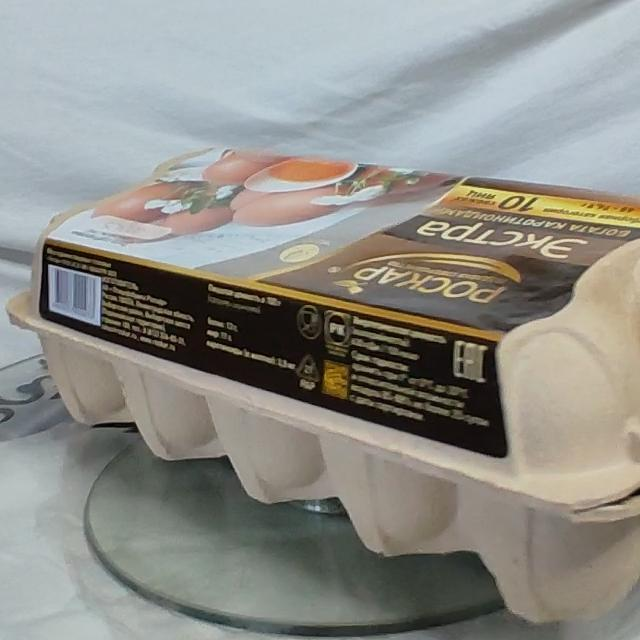egg: (6, 116, 640, 640)
